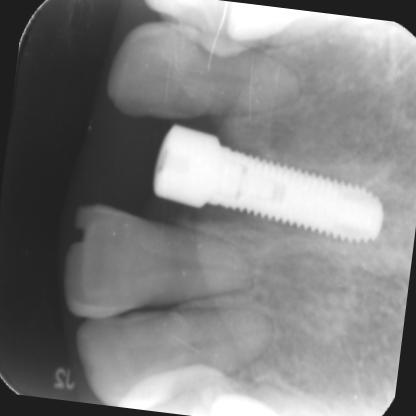Bego: (123, 117, 403, 264)
